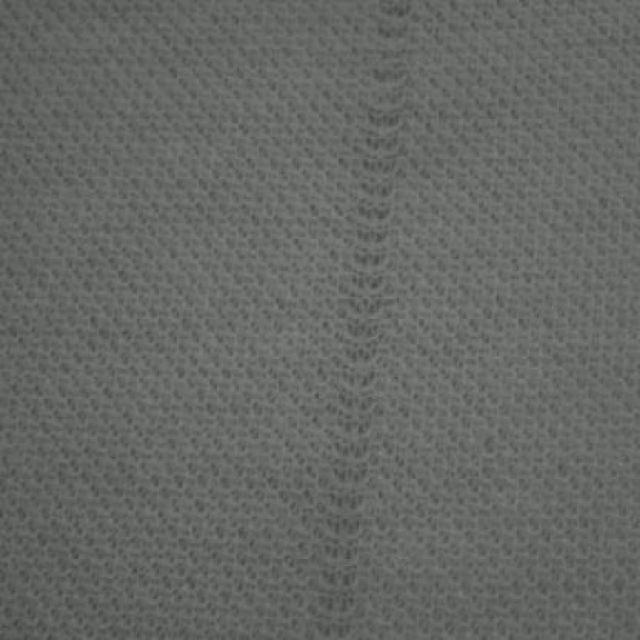Line: (318, 0, 417, 635)
